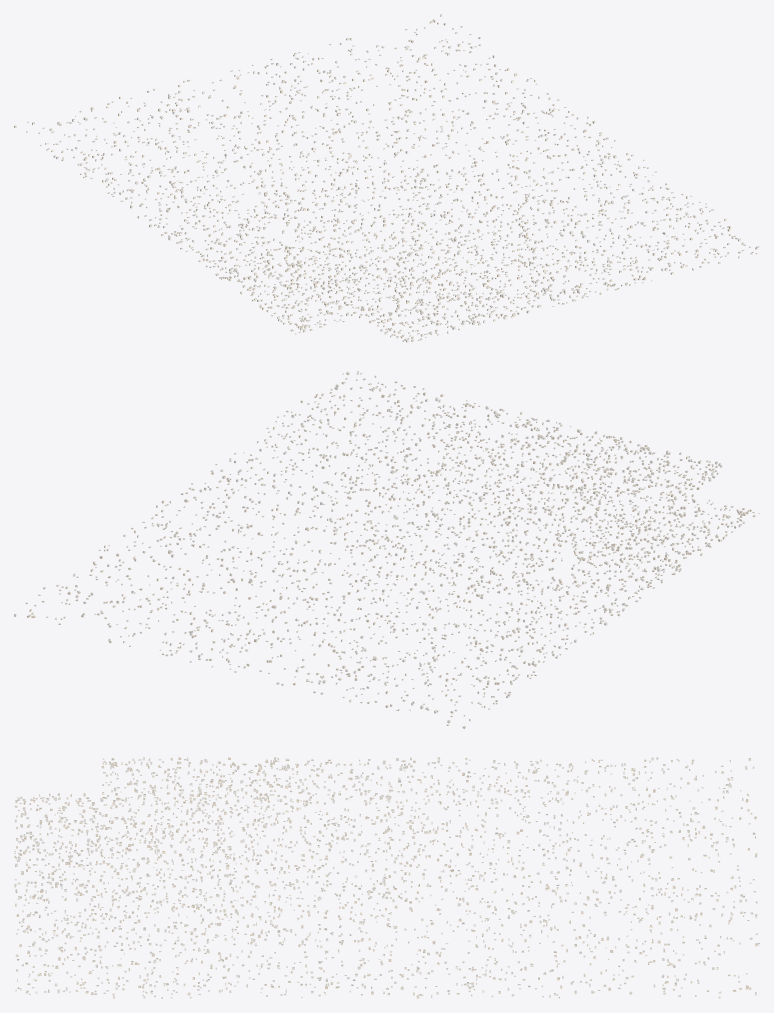
The model's file is SM_JeddahCorniche_Far_City_4.fbx.
The picture shows the model from 3 angles, top to bottom: view 1: azimuth 30°, elevation 25°; view 2: azimuth 150°, elevation 25°; view 3: azimuth 270°, elevation 25°; orthographic projection. The views are drawn at different scales.
Parts seen in each view (by area): view 1: SM_JeddahCorniche_Far_City_4; view 2: SM_JeddahCorniche_Far_City_4; view 3: SM_JeddahCorniche_Far_City_4.
Boxes of the visible parts, x1,y1,x2,y2 form: SM_JeddahCorniche_Far_City_4: (14, 14, 759, 342); SM_JeddahCorniche_Far_City_4: (14, 371, 759, 728); SM_JeddahCorniche_Far_City_4: (14, 757, 759, 998).
Bounding box in the file's own units: 701324 × 10924 × 902937.
